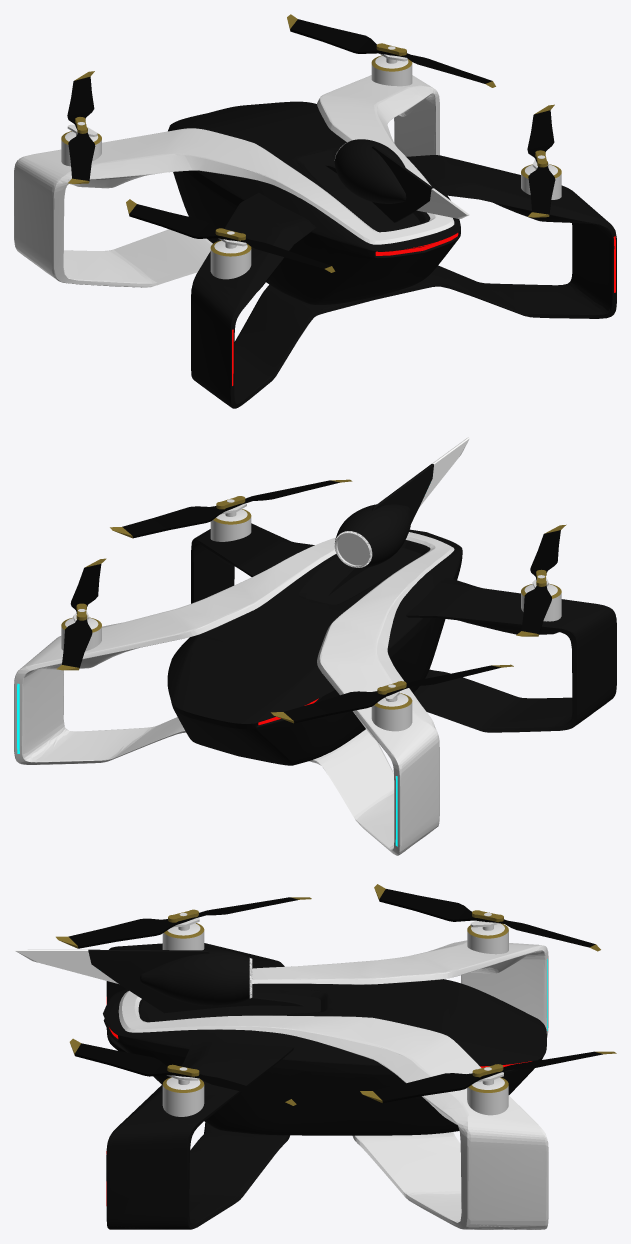
The model's file is drone.glb.
3 views of the same model, one above another, from view 1: azimuth 30°, elevation 25°; view 2: azimuth 150°, elevation 25°; view 3: azimuth 270°, elevation 25° (orthographic).
Parts seen in each view (by area): view 1: body, legs, cam, wing3, wing1, wing4, wing2, camBase, motor3, motor1, motor2, motor4 (+1 smaller); view 2: body, legs, cam, wing4, wing2, camBase, wing1, wing3, motor2, motor4, motor3, motor1; view 3: body, legs, cam, wing3, wing1, wing4, wing2, camBase, motor4, motor1, motor2, motor3.
Boxes of the visible parts, x1,y1,x2,y2 form: body: (168,101,616,408); legs: (14,75,454,287); cam: (326,139,469,222); wing3: (126,199,335,272); wing1: (287,14,495,87); wing4: (527,104,555,217); wing2: (67,71,95,183); camBase: (304,157,423,231); motor3: (210,231,251,279); motor1: (371,46,412,86); motor2: (61,122,101,166); motor4: (521,155,561,199); body: (167,523,616,765); legs: (14,532,454,855); cam: (326,437,469,595); wing4: (110,479,352,538); wing2: (271,664,513,723); camBase: (306,547,421,604); wing1: (56,558,106,670); wing3: (516,524,566,636); motor2: (371,684,412,731); motor4: (210,499,251,541); motor3: (521,575,561,621); motor1: (61,609,101,651); body: (103,943,546,1229); legs: (118,940,548,1229); cam: (14,949,303,1013); wing3: (56,897,311,948); wing1: (360,1051,616,1103); wing4: (69,1038,296,1105); wing2: (374,884,600,951); camBase: (147,992,320,1021); motor4: (162,1067,204,1116); motor1: (467,1067,508,1115); motor2: (467,912,508,954); motor3: (162,912,204,950).
Size of the model in its own units: 1.38 by 0.5446 by 1.59.
